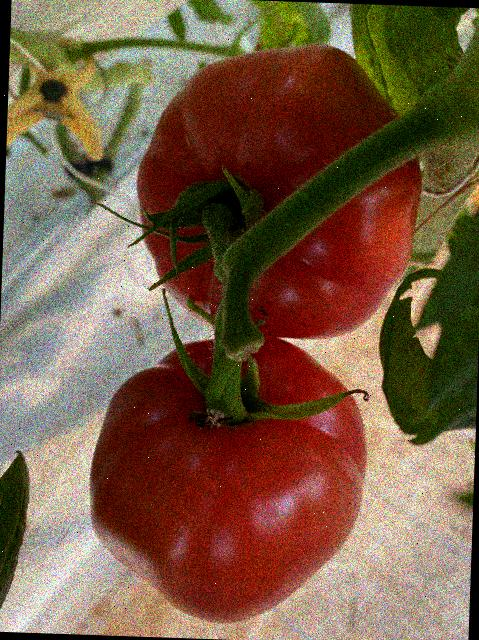b_fully_ripened: (130, 38, 425, 344), (83, 329, 371, 629)
